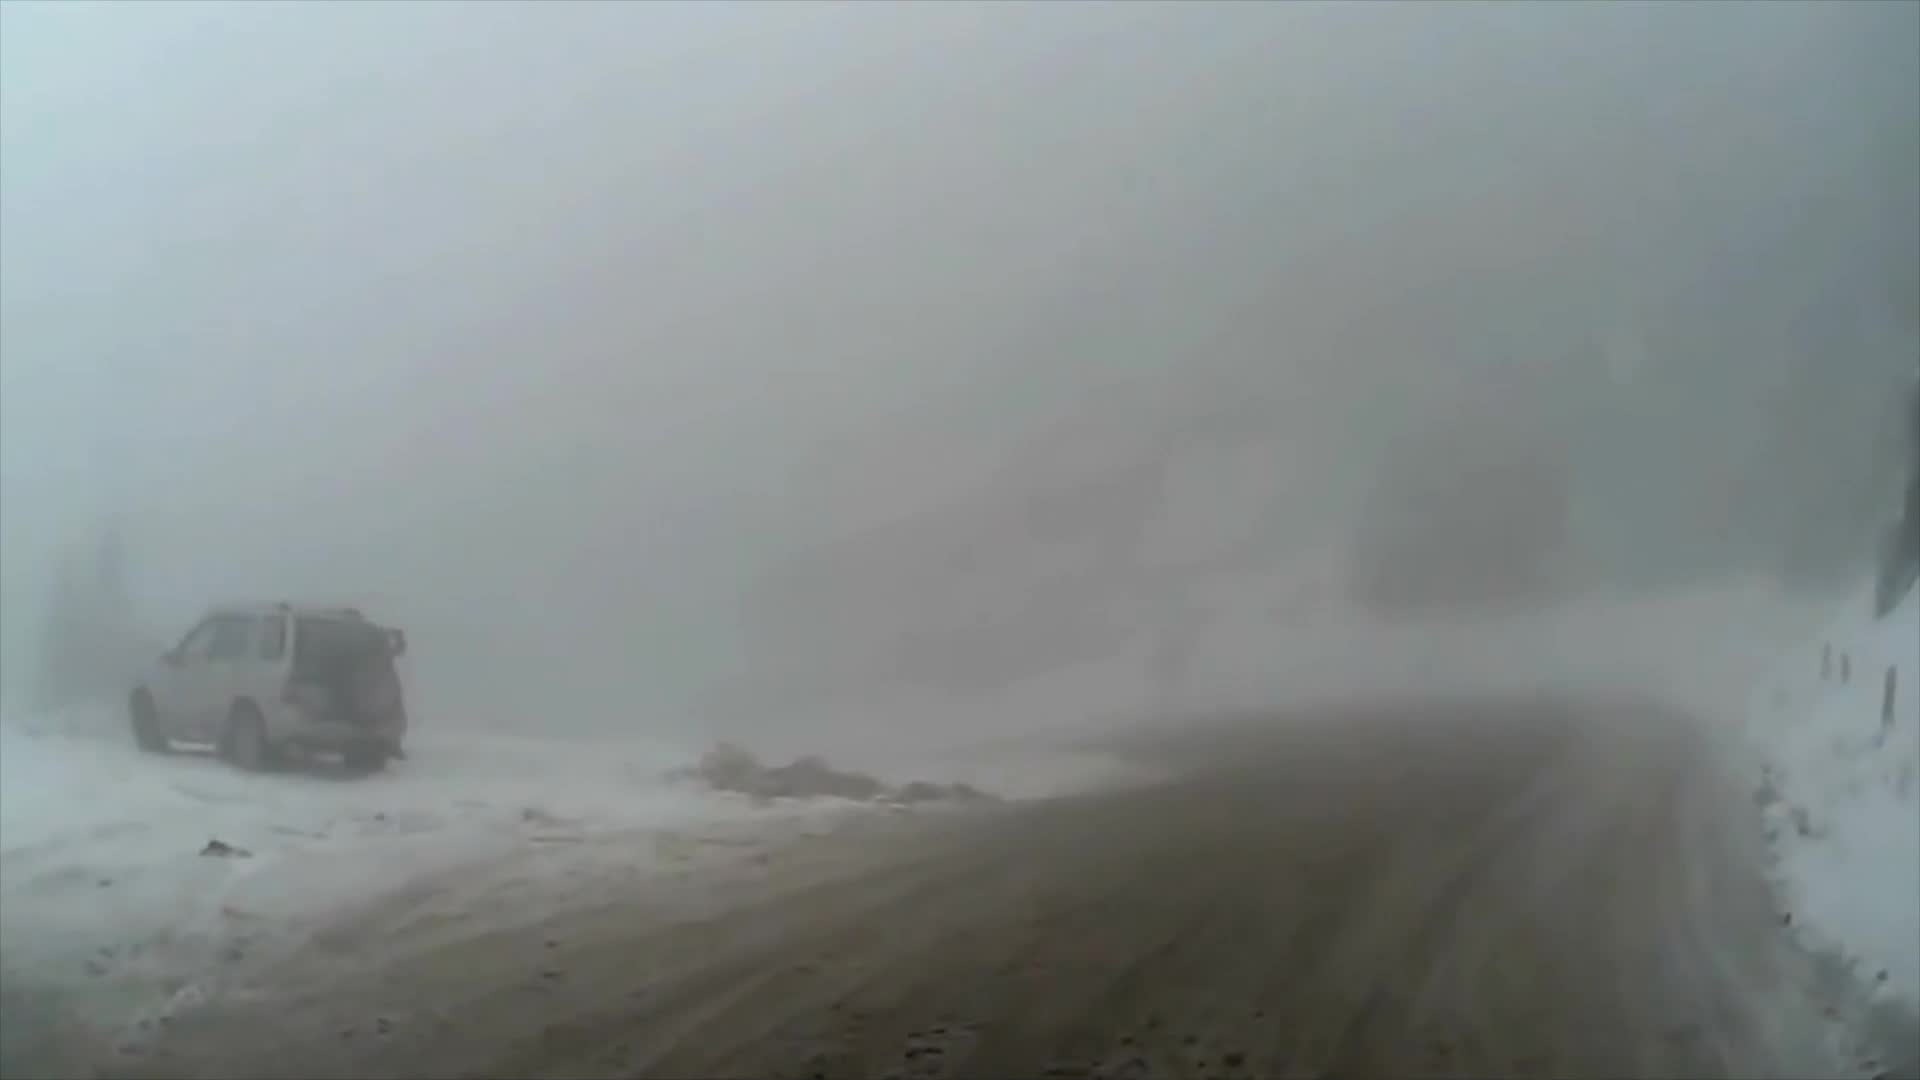vehicle: (125, 601, 406, 775)
